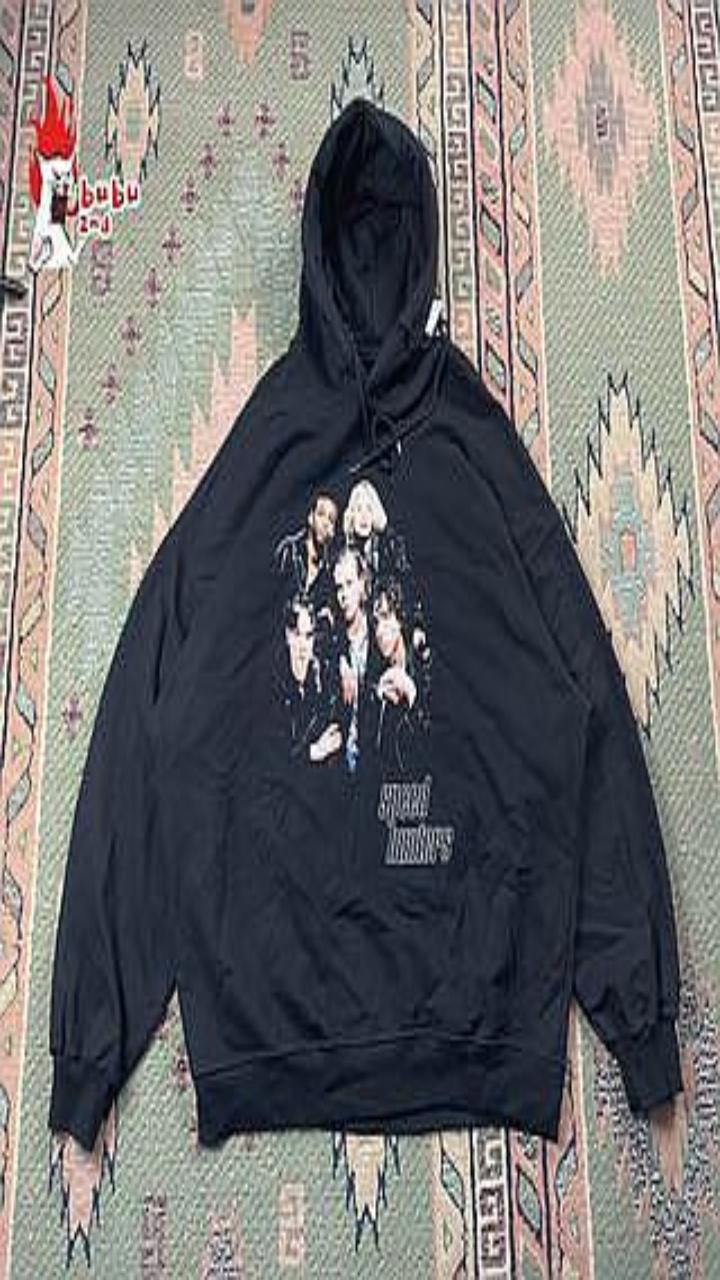Hoodie: (49, 99, 682, 1147)
